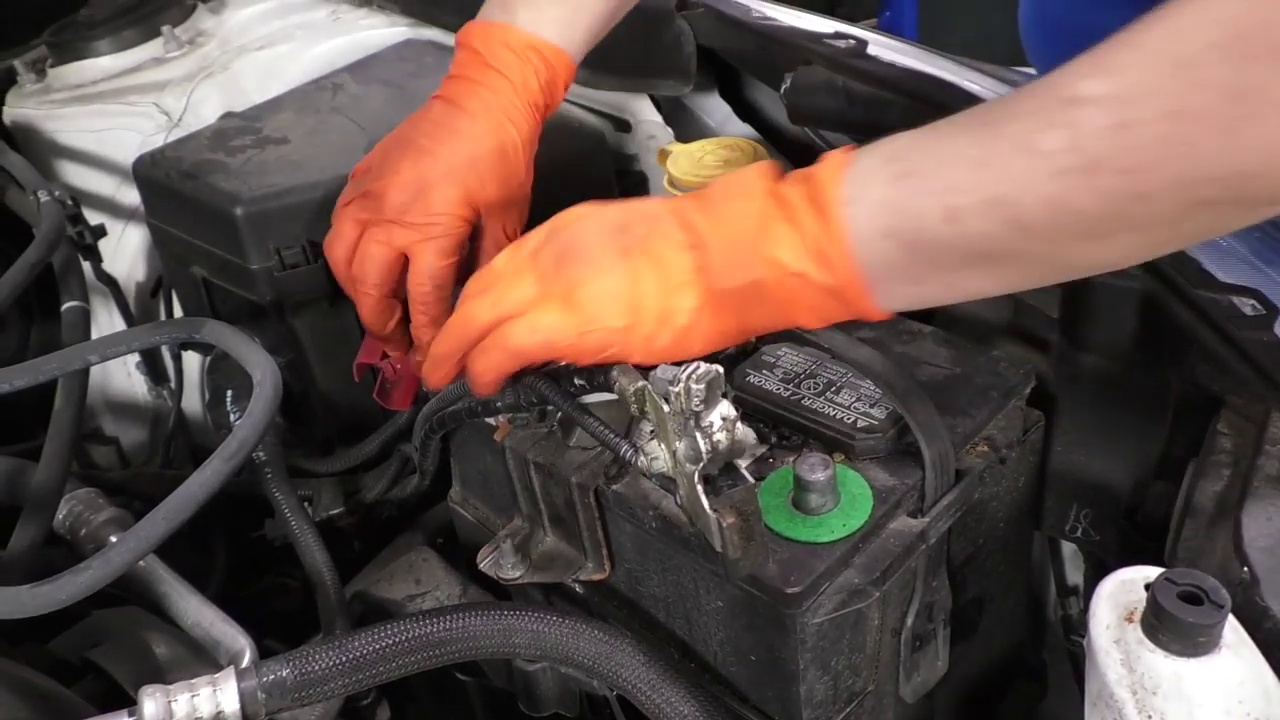battery: (443, 260, 1029, 580)
neg_disconnected: (762, 434, 890, 569)
pos_touched: (324, 218, 543, 410)
